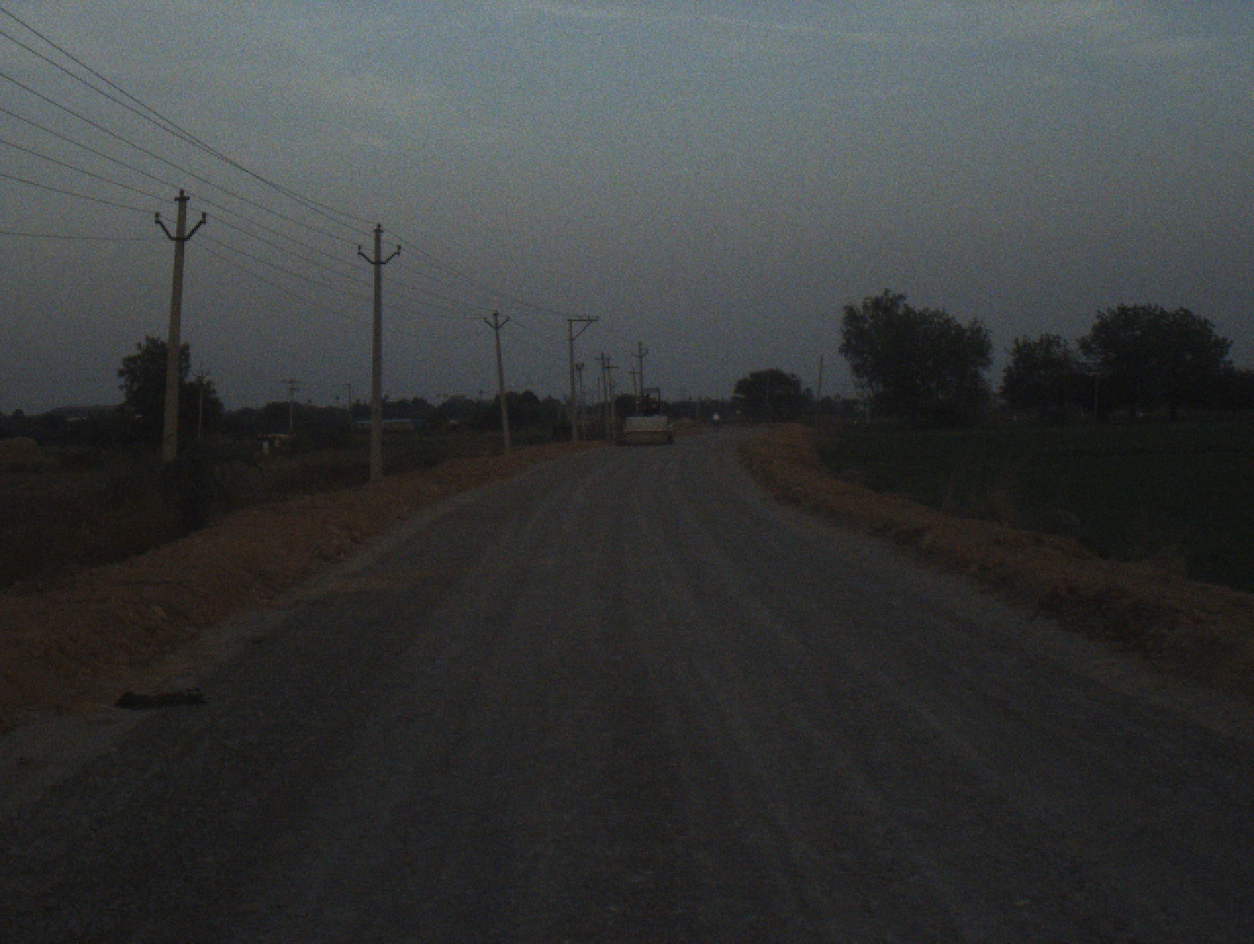vehicle fallback: (608, 386, 682, 447)
